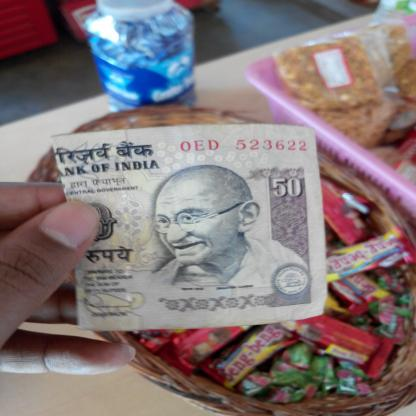Old50Front: (51, 124, 327, 330)
